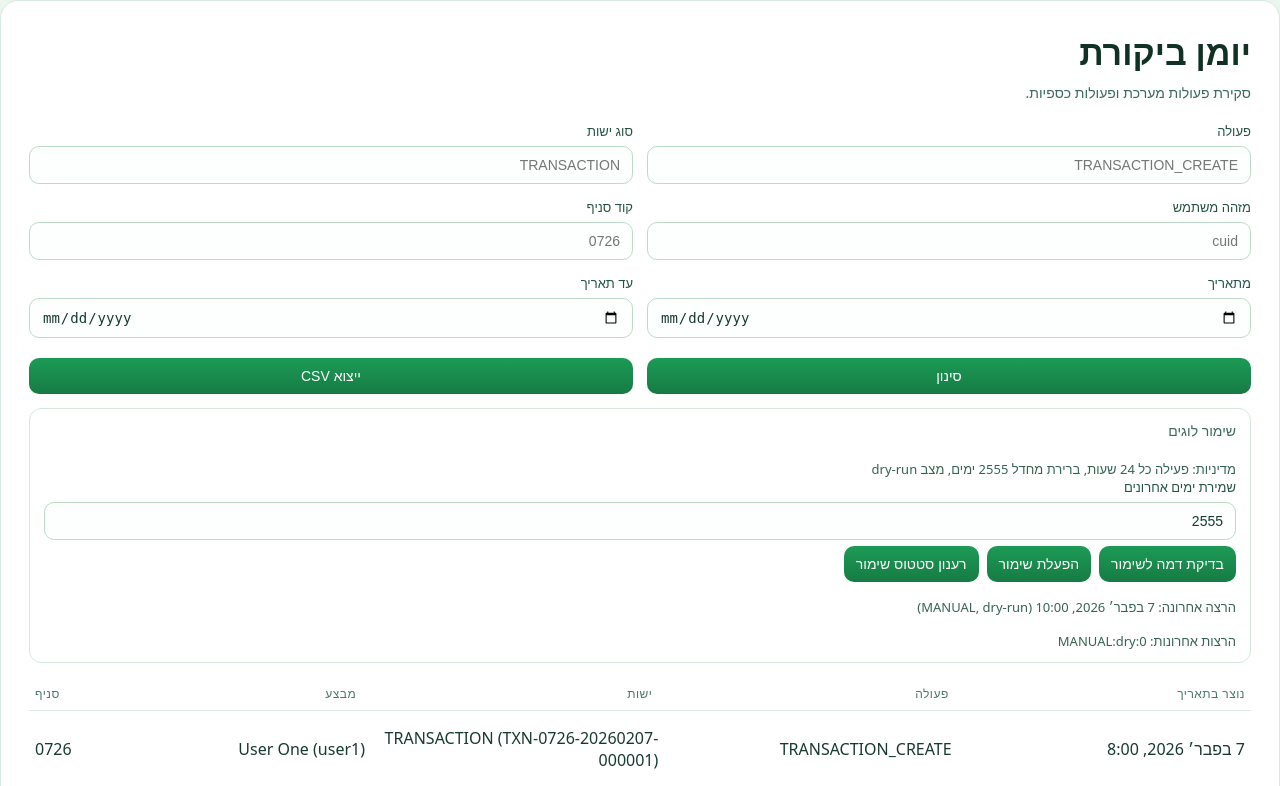
AdminAudit › runs retention dry run
Expected: the text "TRANSACTION_CREATE" is shown, [780,738,952,760]
Replace the text in the number field labelled "שמירת ימים אחרונים" with "90" at point(640, 521), box [44,502,1236,540]
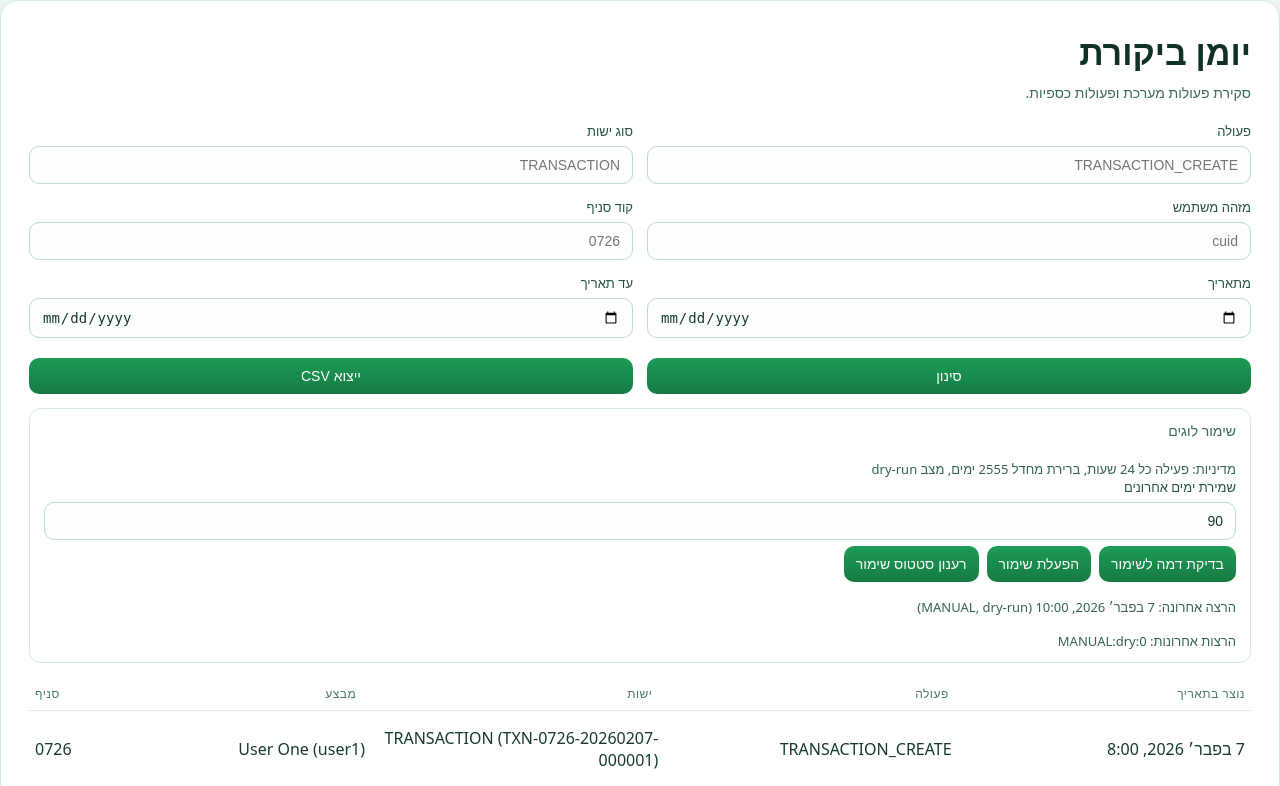
Click the button "בדיקת דמה לשימור" at point(1168, 564), box [1099,546,1236,582]
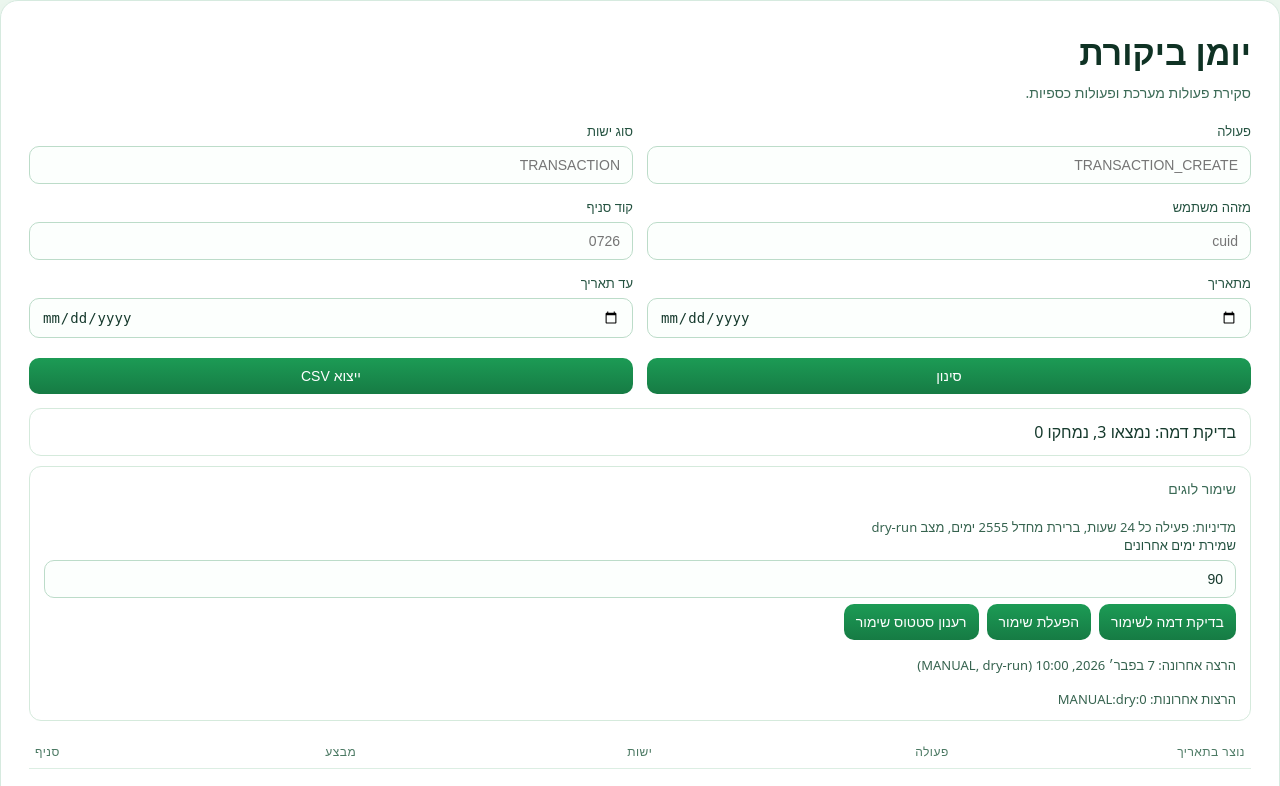
Expected: the text "בדיקת דמה: נמצאו 3, נמחקו 0" is shown, [29,408,1251,456]
